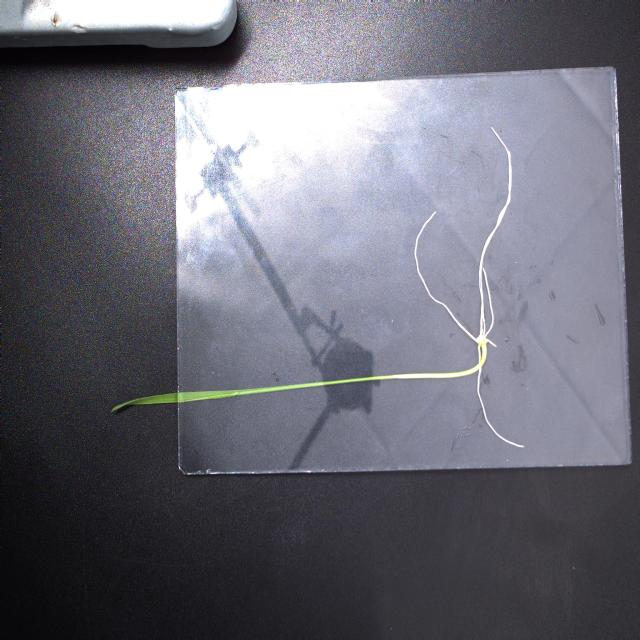leaf: (107, 385, 268, 419)
root: (411, 126, 529, 454)
stem: (266, 364, 478, 399)
